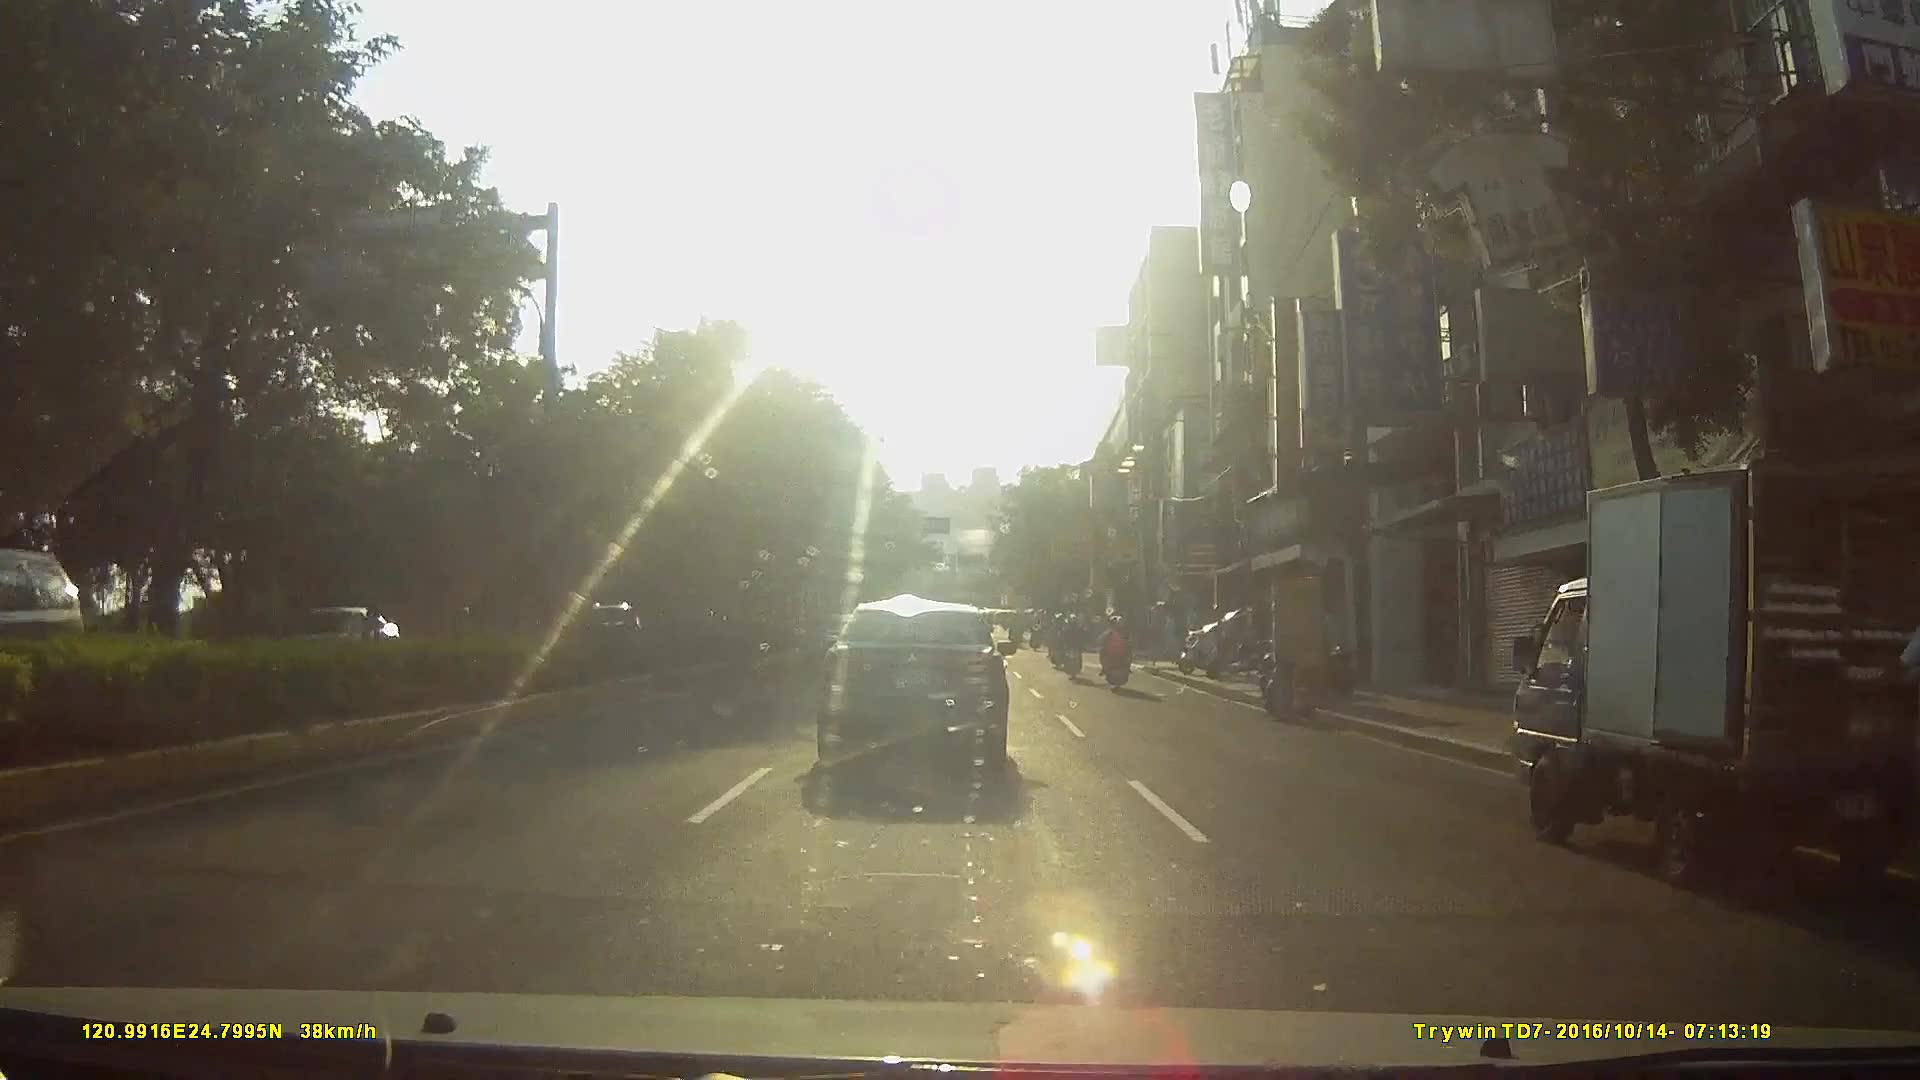rider: (1099, 617, 1134, 696), (1061, 611, 1086, 683), (1050, 609, 1070, 668)
vehicle: (1503, 448, 1920, 876), (810, 594, 1020, 783), (1, 551, 91, 705)
